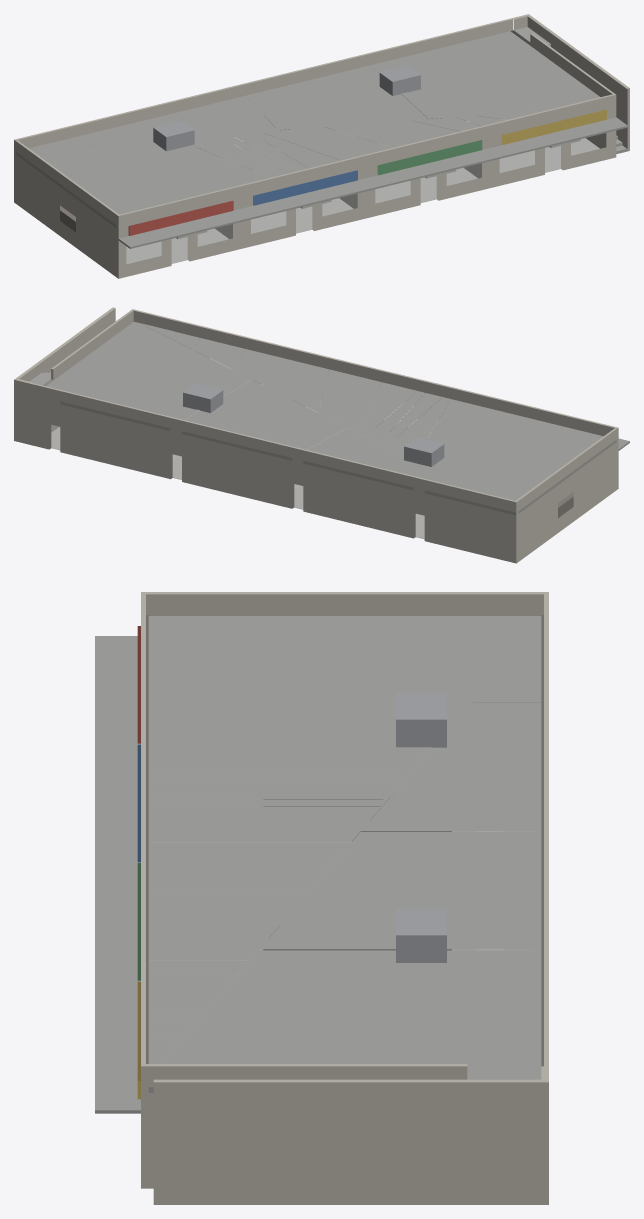
Rendered from strip-mall.gaps-v1.lod0.glb.
The picture shows the model from 3 angles, top to bottom: view 1: azimuth 30°, elevation 25°; view 2: azimuth 150°, elevation 25°; view 3: azimuth 270°, elevation 25°; orthographic projection. The views are drawn at different scales.
Parts seen in each view (by area): view 1: strip-mall; view 2: strip-mall; view 3: strip-mall.
Part boxes in pixels (<box>): strip-mall: <box>14,14,629,278</box>; strip-mall: <box>14,307,629,563</box>; strip-mall: <box>95,592,548,1204</box>.
Bounding box in the file's own units: 45.5 × 5.62 × 17.8.
